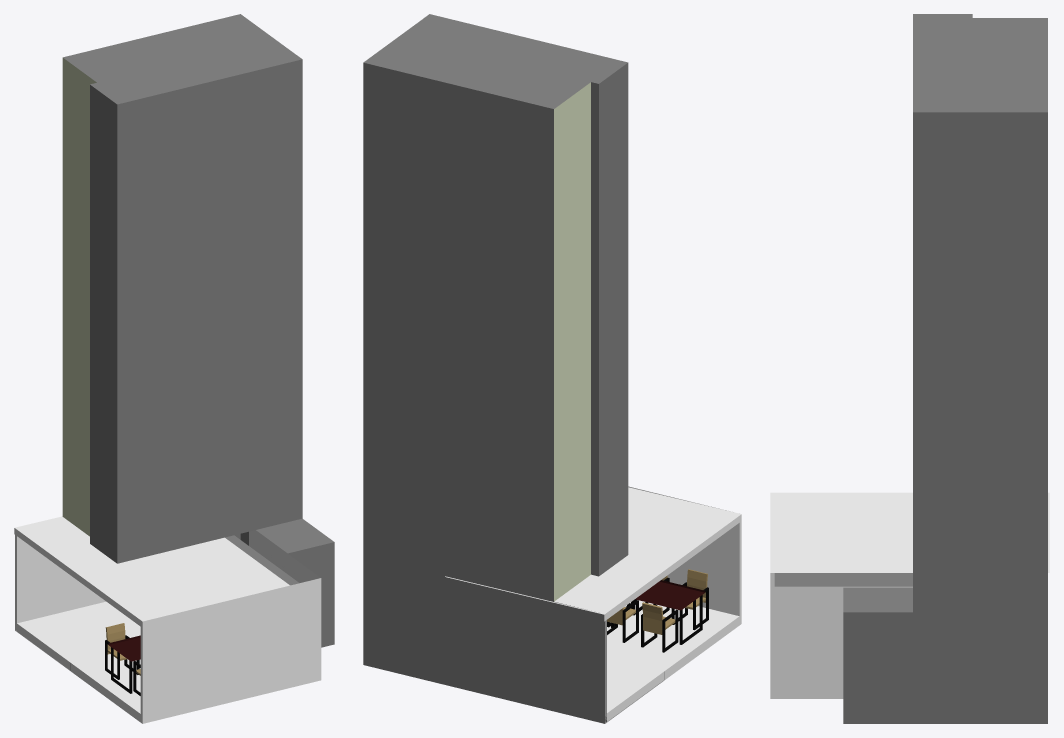
File: B9-B1-Between-B.glb
3 views of the same model, side by side, from view 1: azimuth 30°, elevation 25°; view 2: azimuth 150°, elevation 25°; view 3: azimuth 270°, elevation 25° (orthographic). The views are drawn at different scales.
Visible parts, largest first — view 1: B9-B1 Between B; view 2: B9-B1 Between B; view 3: B9-B1 Between B.
Part boxes in pixels (bbox=[...]): B9-B1 Between B: bbox=[14, 14, 334, 723]; B9-B1 Between B: bbox=[363, 14, 741, 723]; B9-B1 Between B: bbox=[770, 14, 1049, 723].
Bounding box in the file's own units: 63.26 × 151 × 62.24.
